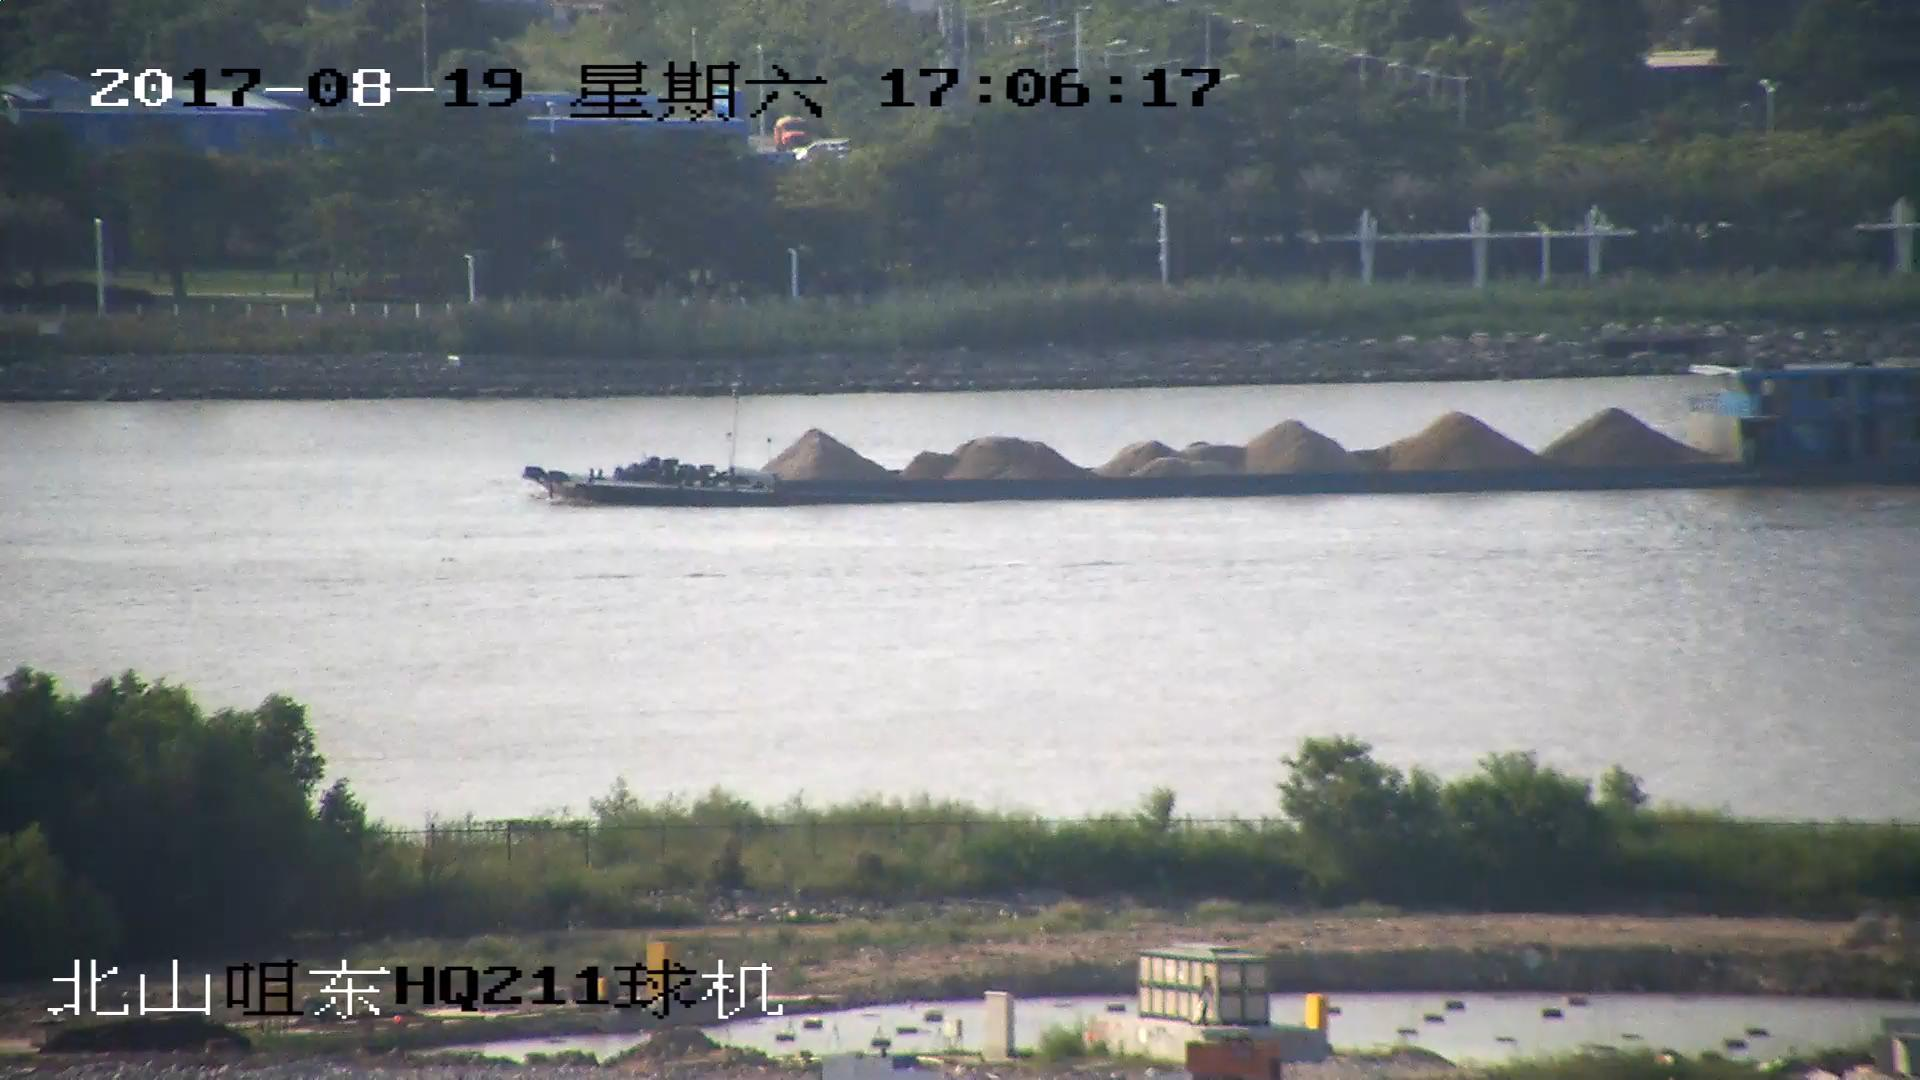Ship: (527, 369, 1920, 506)
